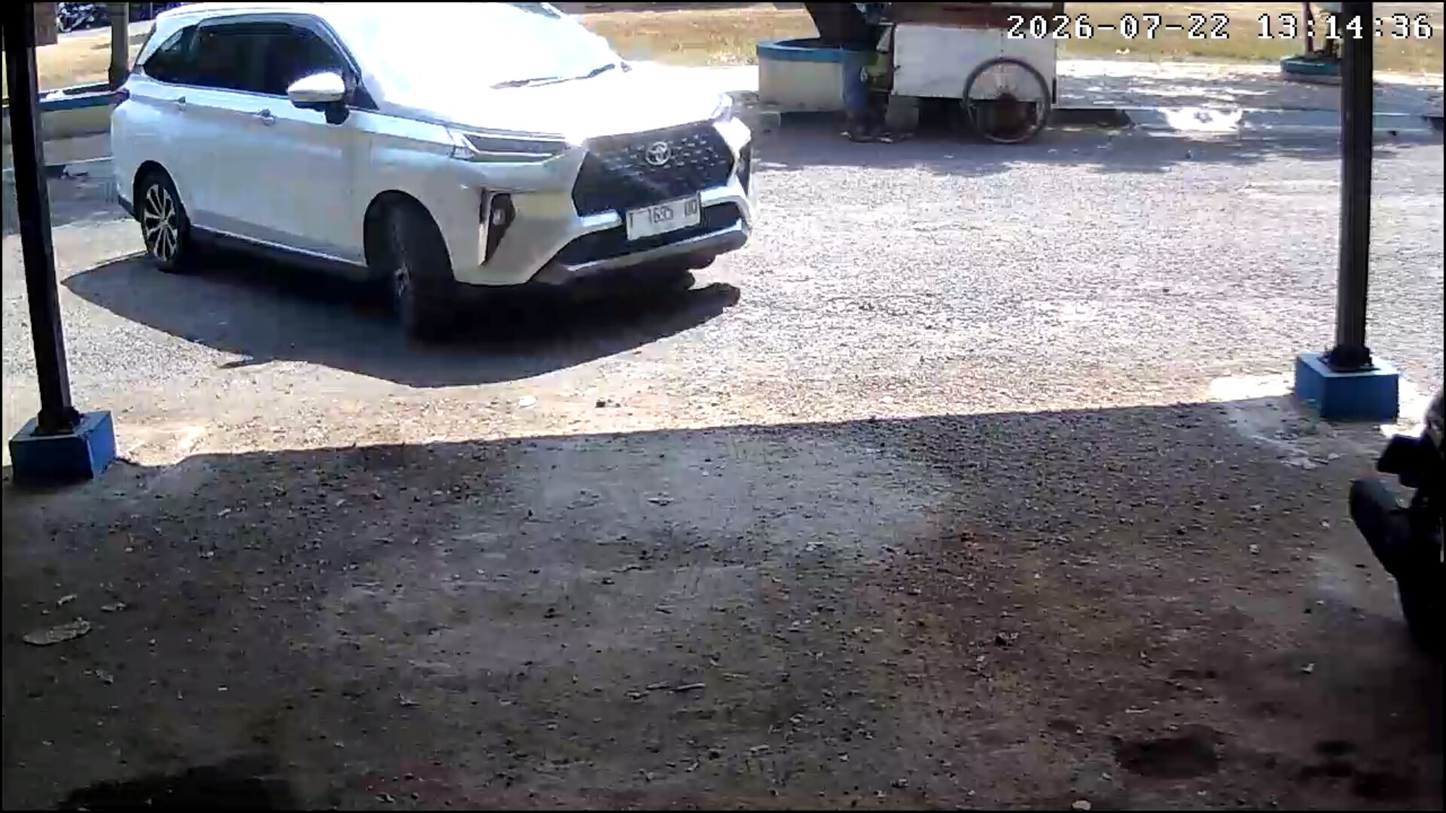plat nomor: (624, 196, 702, 245)
